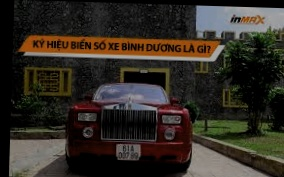Bien-so: (106, 142, 132, 157)
